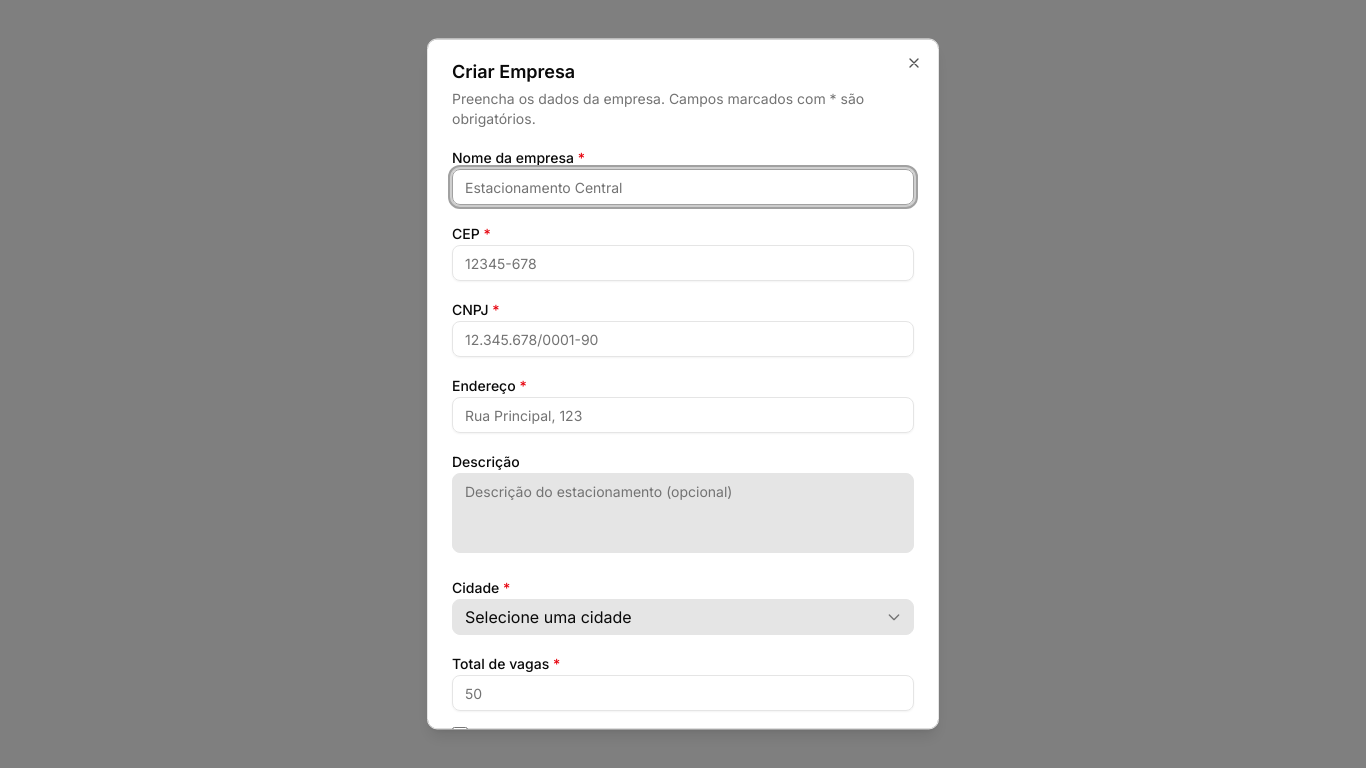
Test: companyForm › validation › should show validation error when CEP is invalid
Type "Test Company" into the field labelled "Nome da empresa *".
click(683, 187); type("Test Company")  # box [452,169,914,205]
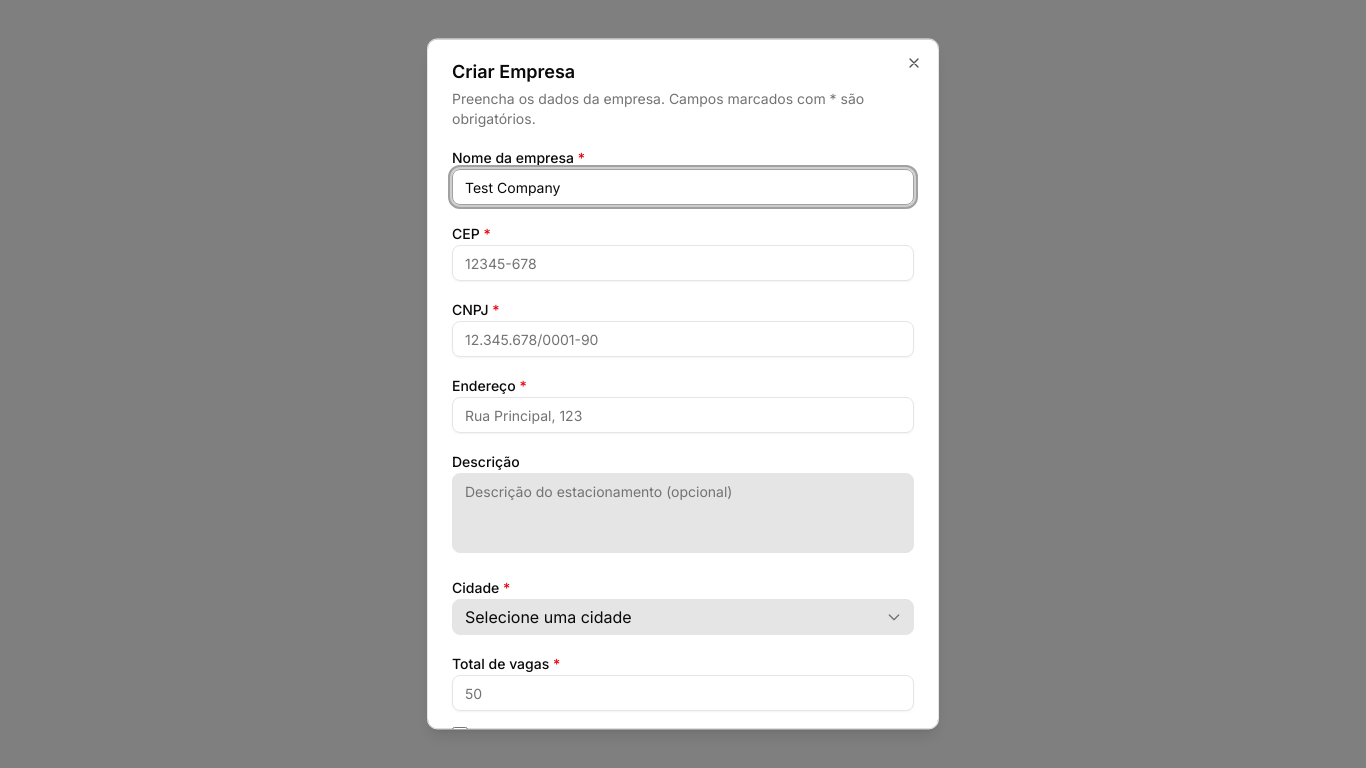
Type "12345" into the field labelled "CEP *".
click(683, 263); type("12345")  # box [452,245,914,281]
(page scrolled)
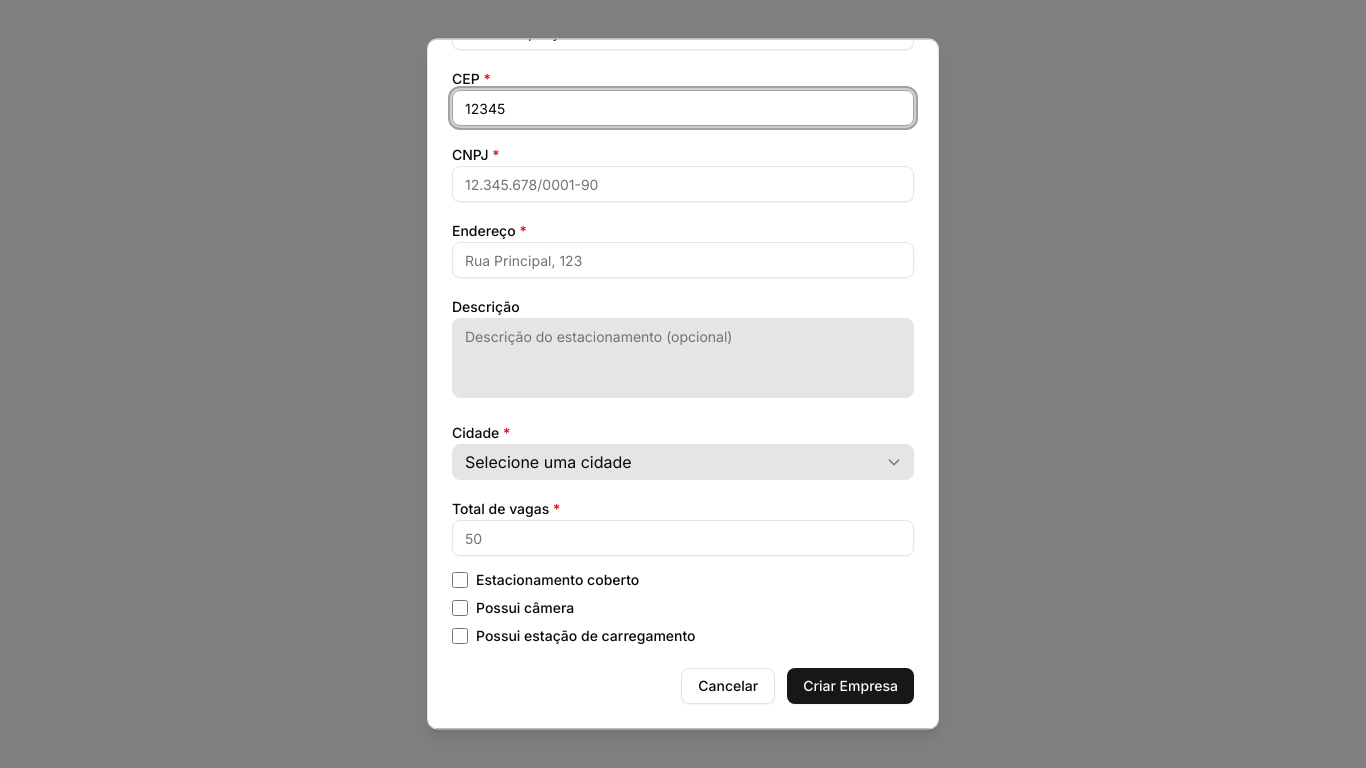
Click the button "Criar Empresa".
click(851, 686)  # box [787,668,914,704]
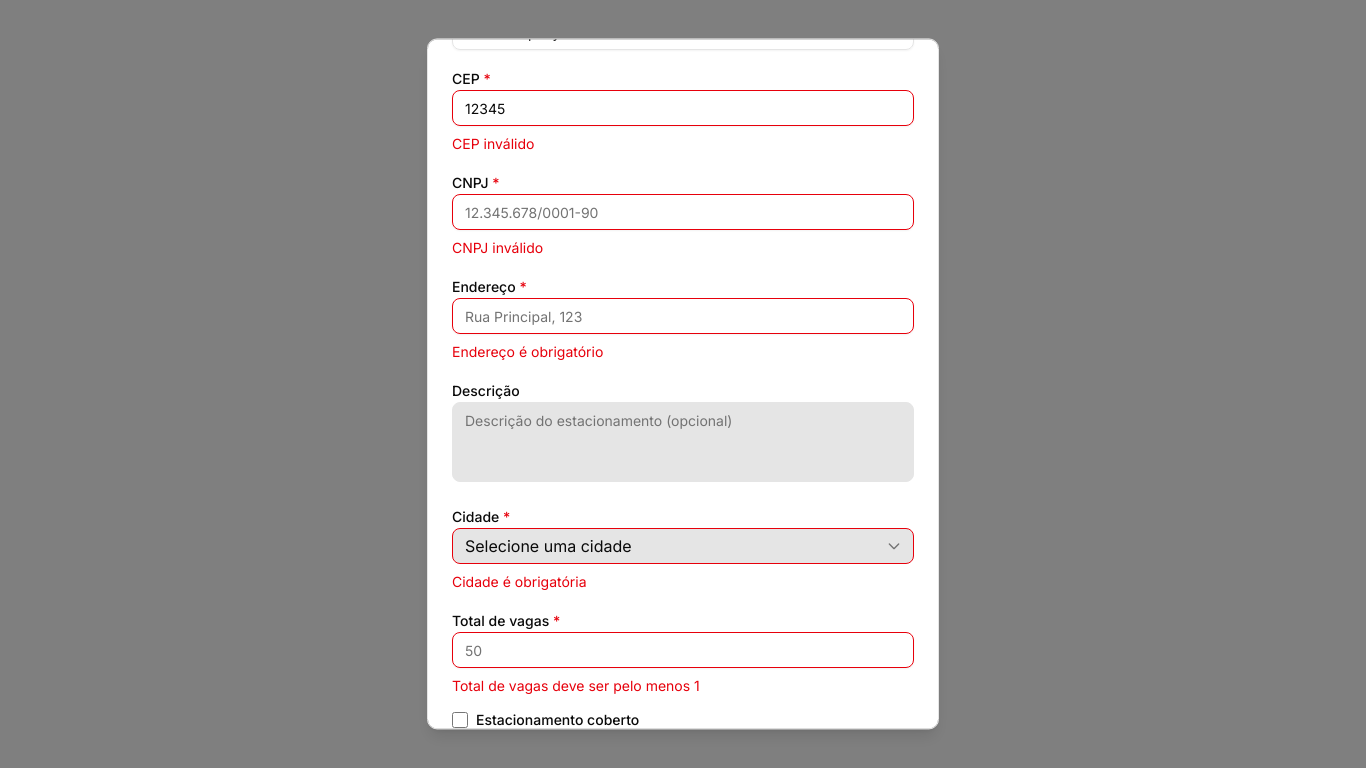
Result: the text "CEP inválido" is shown at [452,135,534,152]
